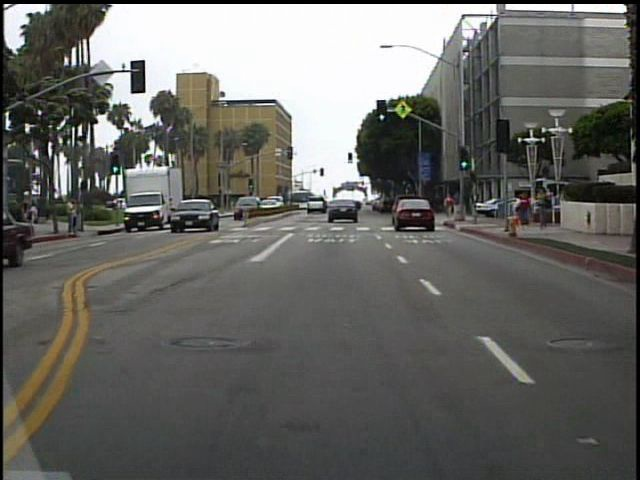person: (66, 193, 81, 238), (441, 193, 456, 219)
